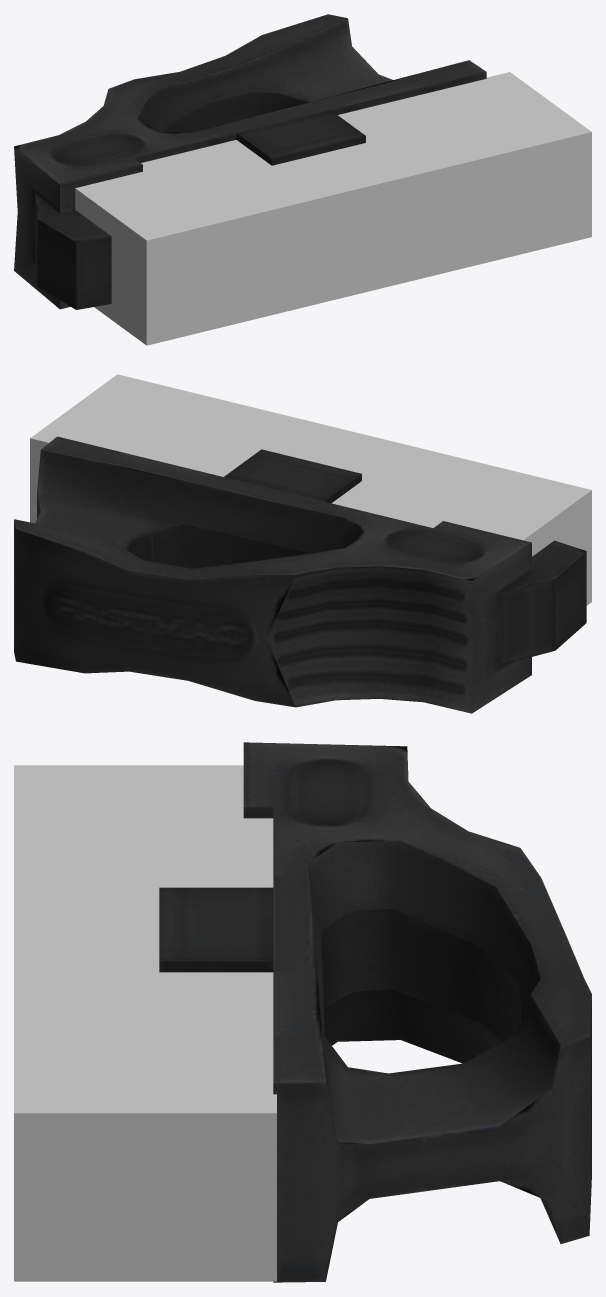
The model's file is t6_attach_fastmag_dsr50_world_LOD1.obj.
3 renders of one model, top to bottom at view 1: azimuth 30°, elevation 25°; view 2: azimuth 150°, elevation 25°; view 3: azimuth 270°, elevation 25°, orthographic. The views are drawn at different scales.
Visible parts, largest first — view 1: mtl_t6_wpn_sniper_dsr50_camo2, mtl_t6_attach_sniper_fastmag; view 2: mtl_t6_attach_sniper_fastmag, mtl_t6_wpn_sniper_dsr50_camo2; view 3: mtl_t6_attach_sniper_fastmag, mtl_t6_wpn_sniper_dsr50_camo2.
Part boxes in pixels (left/top/right/bottom): mtl_t6_wpn_sniper_dsr50_camo2: left=75, top=72, right=591, bottom=345; mtl_t6_attach_sniper_fastmag: left=14, top=14, right=486, bottom=309; mtl_t6_attach_sniper_fastmag: left=14, top=436, right=586, bottom=713; mtl_t6_wpn_sniper_dsr50_camo2: left=30, top=374, right=591, bottom=605; mtl_t6_attach_sniper_fastmag: left=159, top=742, right=591, bottom=1282; mtl_t6_wpn_sniper_dsr50_camo2: left=14, top=765, right=276, bottom=1281.
Bounding box in the file's own units: 14.59 × 3.59 × 9.44.
